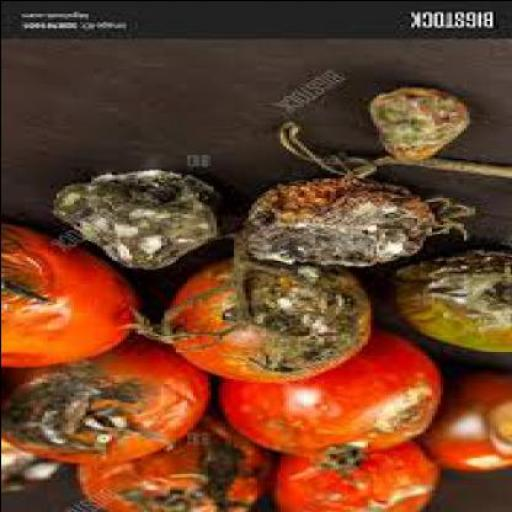biodegradable: (224, 326, 448, 476), (2, 339, 216, 467), (165, 263, 381, 383), (3, 227, 146, 369), (247, 182, 480, 267), (52, 172, 225, 272), (87, 418, 272, 511), (279, 122, 511, 182), (273, 438, 443, 511), (399, 252, 511, 356), (418, 369, 511, 474), (366, 91, 475, 165), (3, 447, 86, 511)
